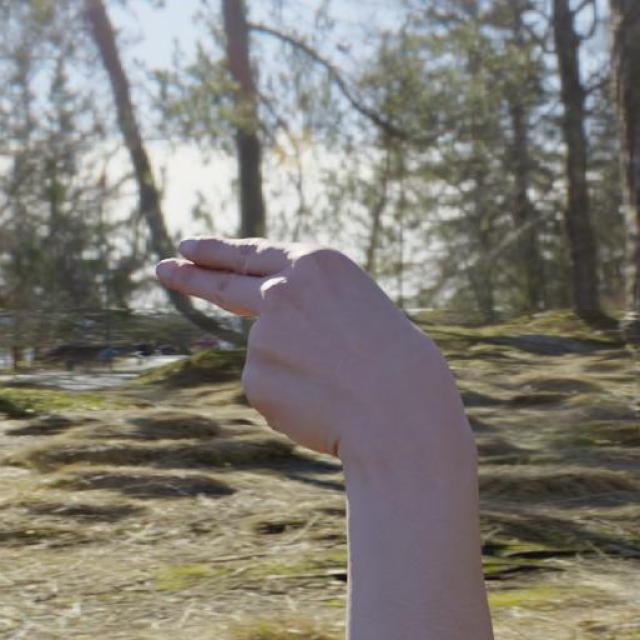H: (150, 234, 462, 466)
